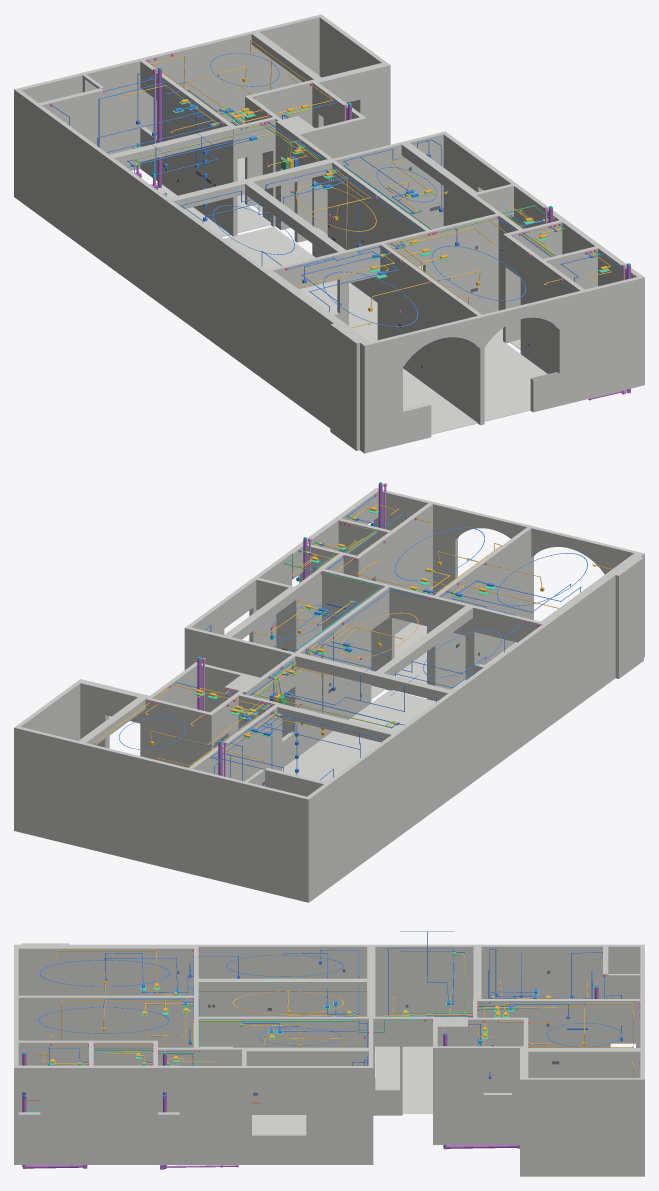
The picture shows the model from 3 angles, top to bottom: view 1: azimuth 30°, elevation 25°; view 2: azimuth 150°, elevation 25°; view 3: azimuth 270°, elevation 25°; orthographic projection. The views are drawn at different scales.
Parts seen in each view (by area): view 1: layer-17, layer-15, layer-26, layer-6, layer-25, layer-27, layer-19, layer-33, layer-8, layer-5, layer-0, layer-28; view 2: layer-17, layer-15, layer-26, layer-6, layer-27, layer-25, layer-19, layer-33, layer-8, layer-5, layer-0; view 3: layer-17, layer-15, layer-26, layer-6, layer-27, layer-33, layer-25, layer-19, layer-8, layer-0, layer-28, layer-5 (+1 smaller).
Part boxes in pixels (bbox=[...]): layer-17: bbox=[14, 14, 644, 453]; layer-15: bbox=[150, 157, 547, 434]; layer-26: bbox=[51, 73, 450, 311]; layer-6: bbox=[123, 39, 611, 327]; layer-25: bbox=[98, 81, 632, 281]; layer-27: bbox=[136, 53, 525, 326]; layer-19: bbox=[134, 107, 599, 257]; layer-33: bbox=[136, 69, 630, 400]; layer-8: bbox=[132, 108, 594, 257]; layer-5: bbox=[186, 67, 480, 307]; layer-0: bbox=[172, 101, 609, 278]; layer-28: bbox=[127, 108, 594, 258]; layer-17: bbox=[14, 488, 644, 902]; layer-15: bbox=[282, 622, 516, 781]; layer-26: bbox=[177, 558, 581, 780]; layer-6: bbox=[94, 504, 612, 766]; layer-27: bbox=[119, 527, 587, 772]; layer-25: bbox=[171, 495, 515, 780]; layer-19: bbox=[238, 516, 454, 726]; layer-33: bbox=[197, 484, 382, 775]; layer-8: bbox=[242, 517, 455, 727]; layer-5: bbox=[150, 551, 542, 745]; layer-0: bbox=[194, 510, 495, 738]; layer-17: bbox=[14, 943, 644, 1176]; layer-15: bbox=[198, 1046, 432, 1133]; layer-26: bbox=[103, 931, 621, 1065]; layer-6: bbox=[42, 950, 633, 1077]; layer-27: bbox=[38, 931, 622, 1046]; layer-33: bbox=[22, 987, 598, 1169]; layer-25: bbox=[24, 948, 592, 1095]; layer-19: bbox=[78, 952, 518, 1065]; layer-8: bbox=[78, 952, 517, 1064]; layer-0: bbox=[50, 986, 551, 1065]; layer-28: bbox=[78, 951, 518, 1062]; layer-5: bbox=[103, 972, 584, 1044].
Size of the model in its own units: 9.06 by 3.96 by 17.71.
